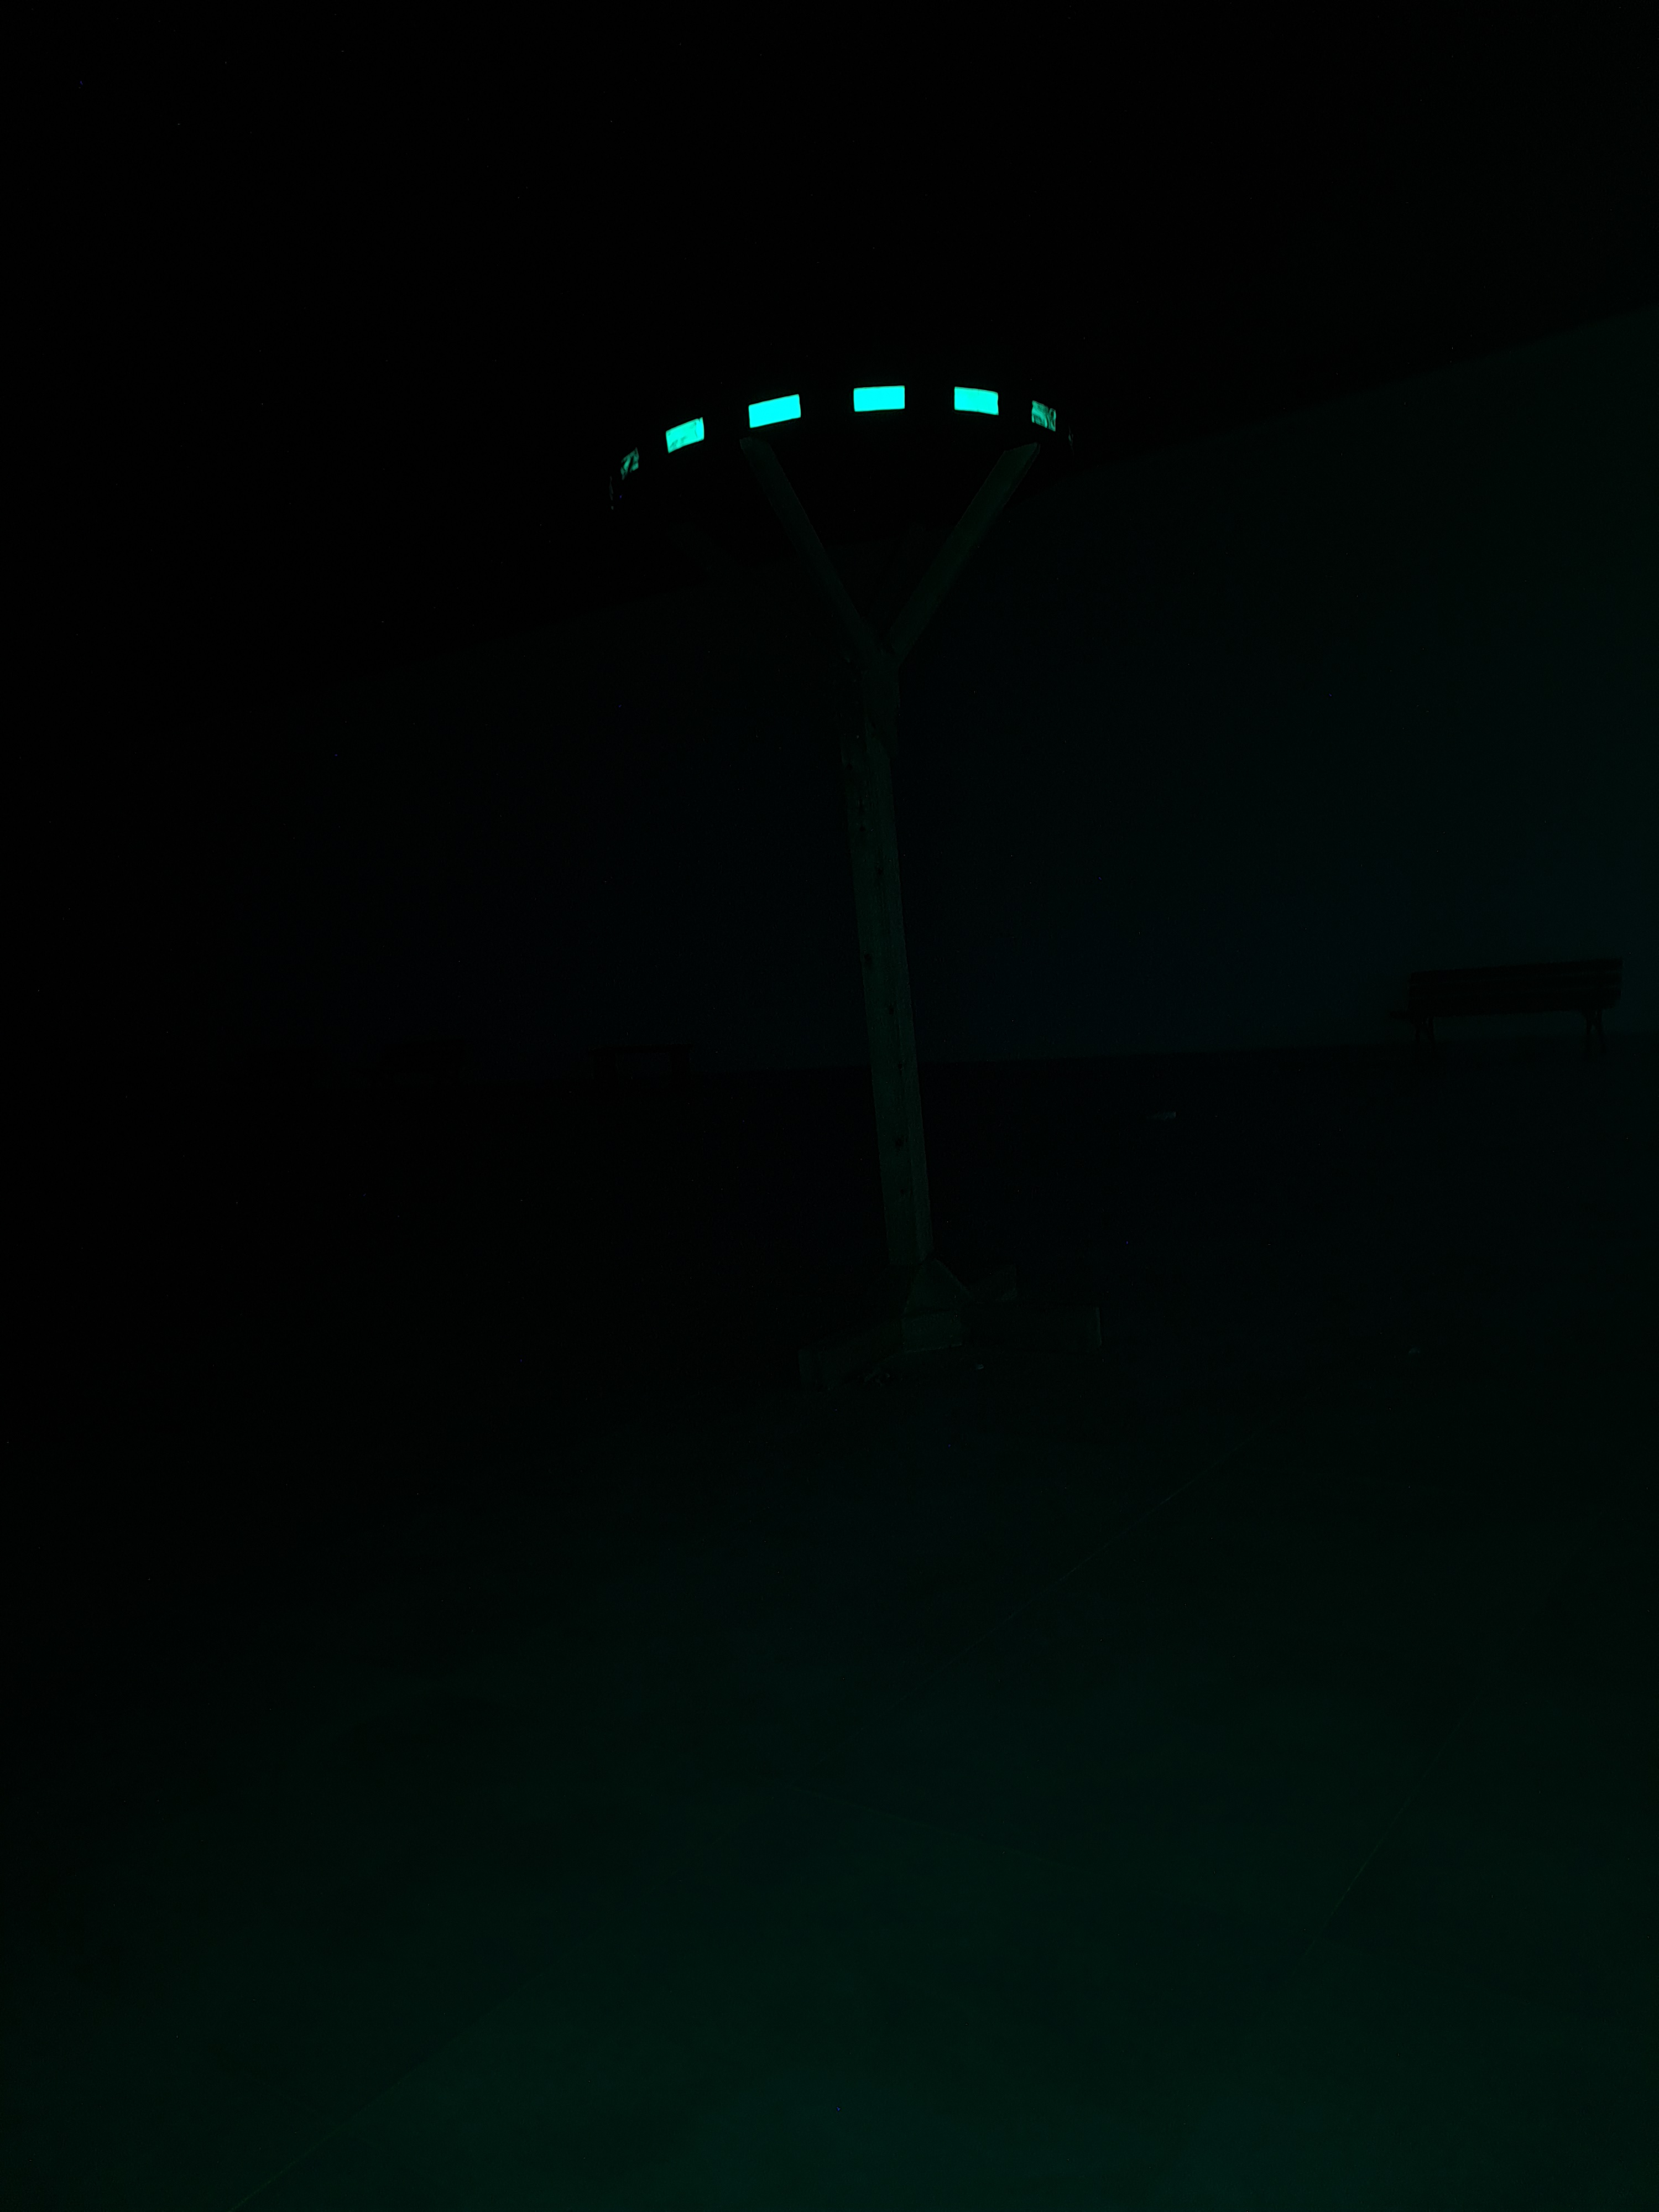hoop: (613, 381, 1061, 474)
